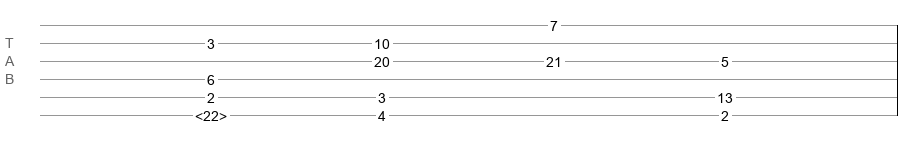10: (374, 36, 390, 46)
13: (717, 90, 733, 100)
2: (207, 90, 215, 100), (721, 108, 729, 118)
20: (374, 54, 390, 64)
21: (546, 54, 562, 64)
3: (207, 36, 215, 46), (378, 90, 386, 100)
4: (378, 108, 386, 118)
5: (721, 54, 729, 64)
6: (207, 72, 215, 82)
7: (550, 18, 558, 28)
harmonic: (195, 108, 227, 118)
